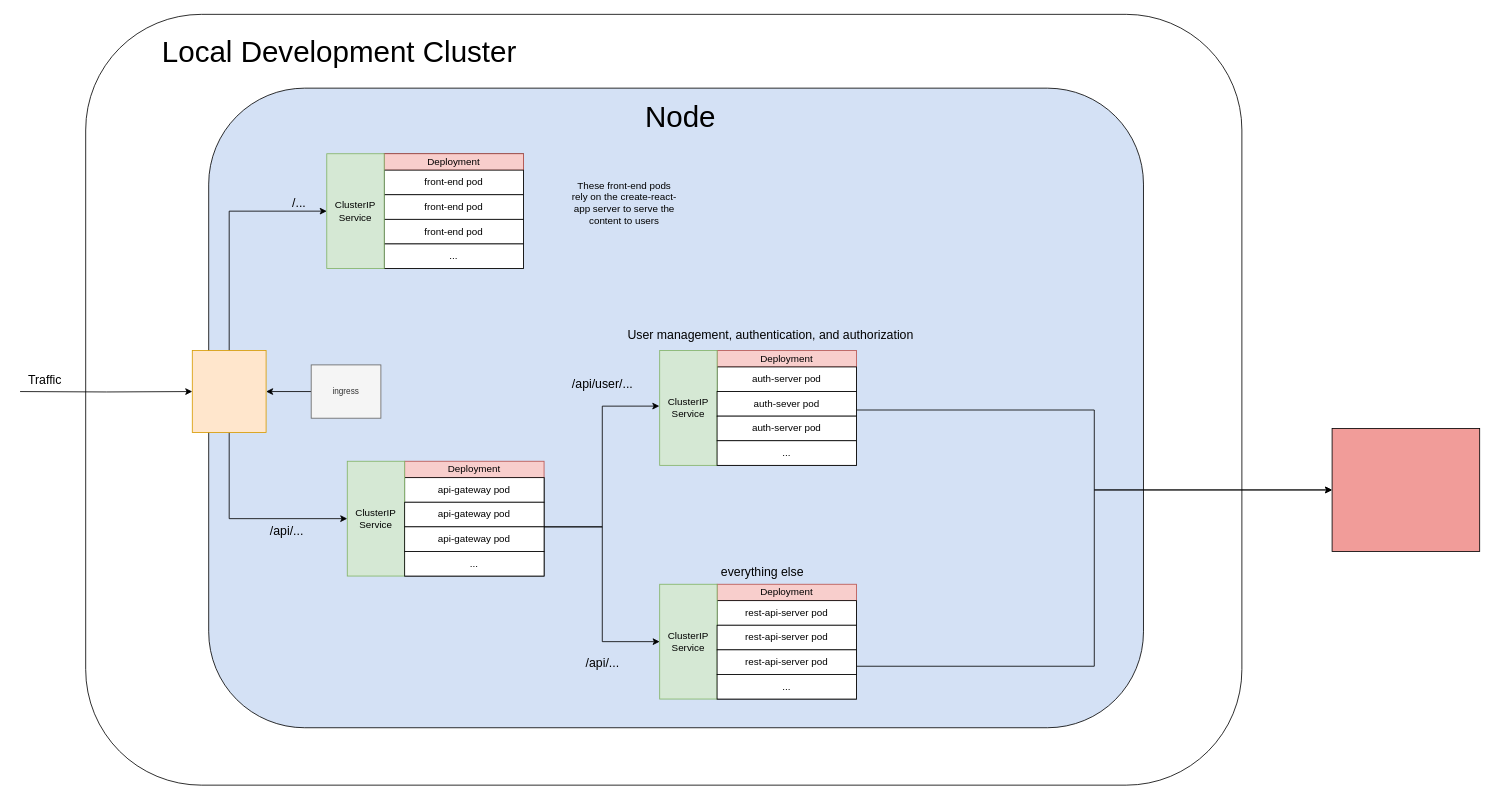
Some shapes in this 1494 by 800 pixel diagram are drawn without their labels. Each missing label, with the box of its shape:
AWS RDS PostgreSQL DB: (1331, 428, 1480, 551)
ingress-nginx controller: (191, 350, 266, 433)
